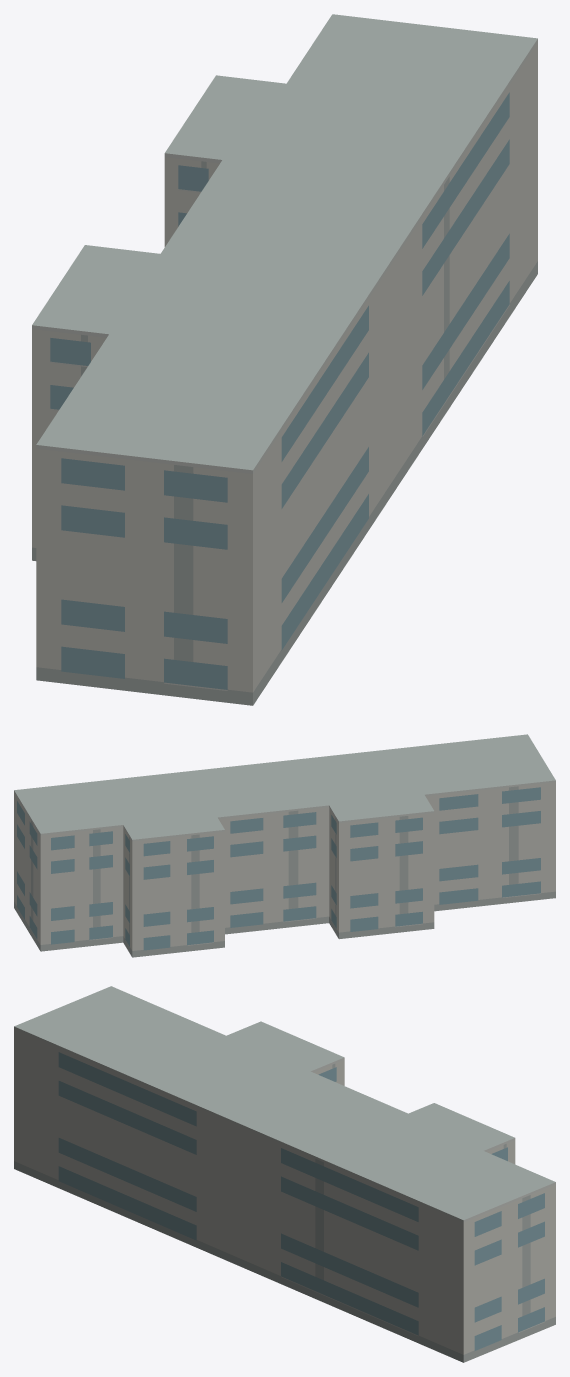
File: residential-dcc56132-7bb5-40d6-aaf2-ac549c25a1a6.glb
3 views of the same model, one above another, from view 1: azimuth 30°, elevation 25°; view 2: azimuth 150°, elevation 25°; view 3: azimuth 270°, elevation 25° (orthographic). The views are drawn at different scales.
Parts seen in each view (by area): view 1: residential-dcc56132-7bb5-40d6-aaf2-ac549c25a1a6.tmp; view 2: residential-dcc56132-7bb5-40d6-aaf2-ac549c25a1a6.tmp; view 3: residential-dcc56132-7bb5-40d6-aaf2-ac549c25a1a6.tmp.
Part boxes in pixels (x1=…): residential-dcc56132-7bb5-40d6-aaf2-ac549c25a1a6.tmp: x1=32, y1=14, x2=537, y2=705; residential-dcc56132-7bb5-40d6-aaf2-ac549c25a1a6.tmp: x1=14, y1=734, x2=555, y2=957; residential-dcc56132-7bb5-40d6-aaf2-ac549c25a1a6.tmp: x1=14, y1=986, x2=555, y2=1362.
Bounding box in the file's own units: 53.75 × 15.25 × 52.55.
